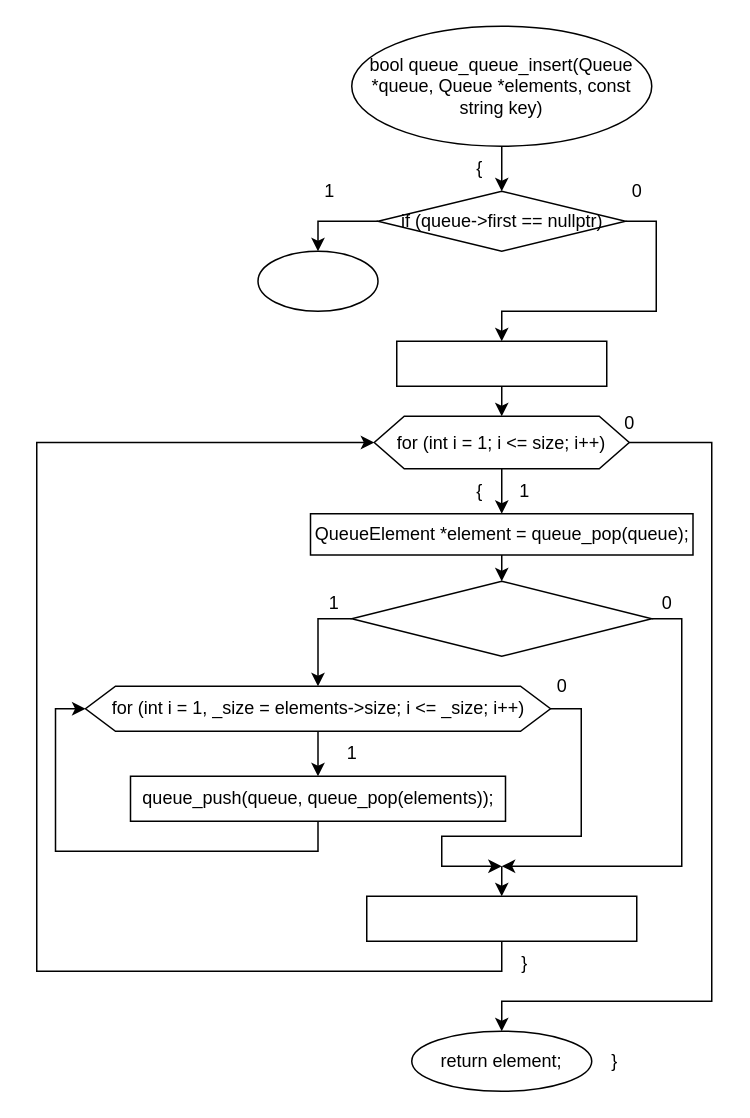
Image size: 750x1118. Some labels were removed from this diagram. The shapes that lost their labels are listed below. From the top down, each one's centre as x and y in pixels, then its label:
At (317,280): "return false;".
At (501,363): "int size = queue->size;".
At (501,618): "if (element->key == key)".
At (501,918): "queue_push(queue, element);".
